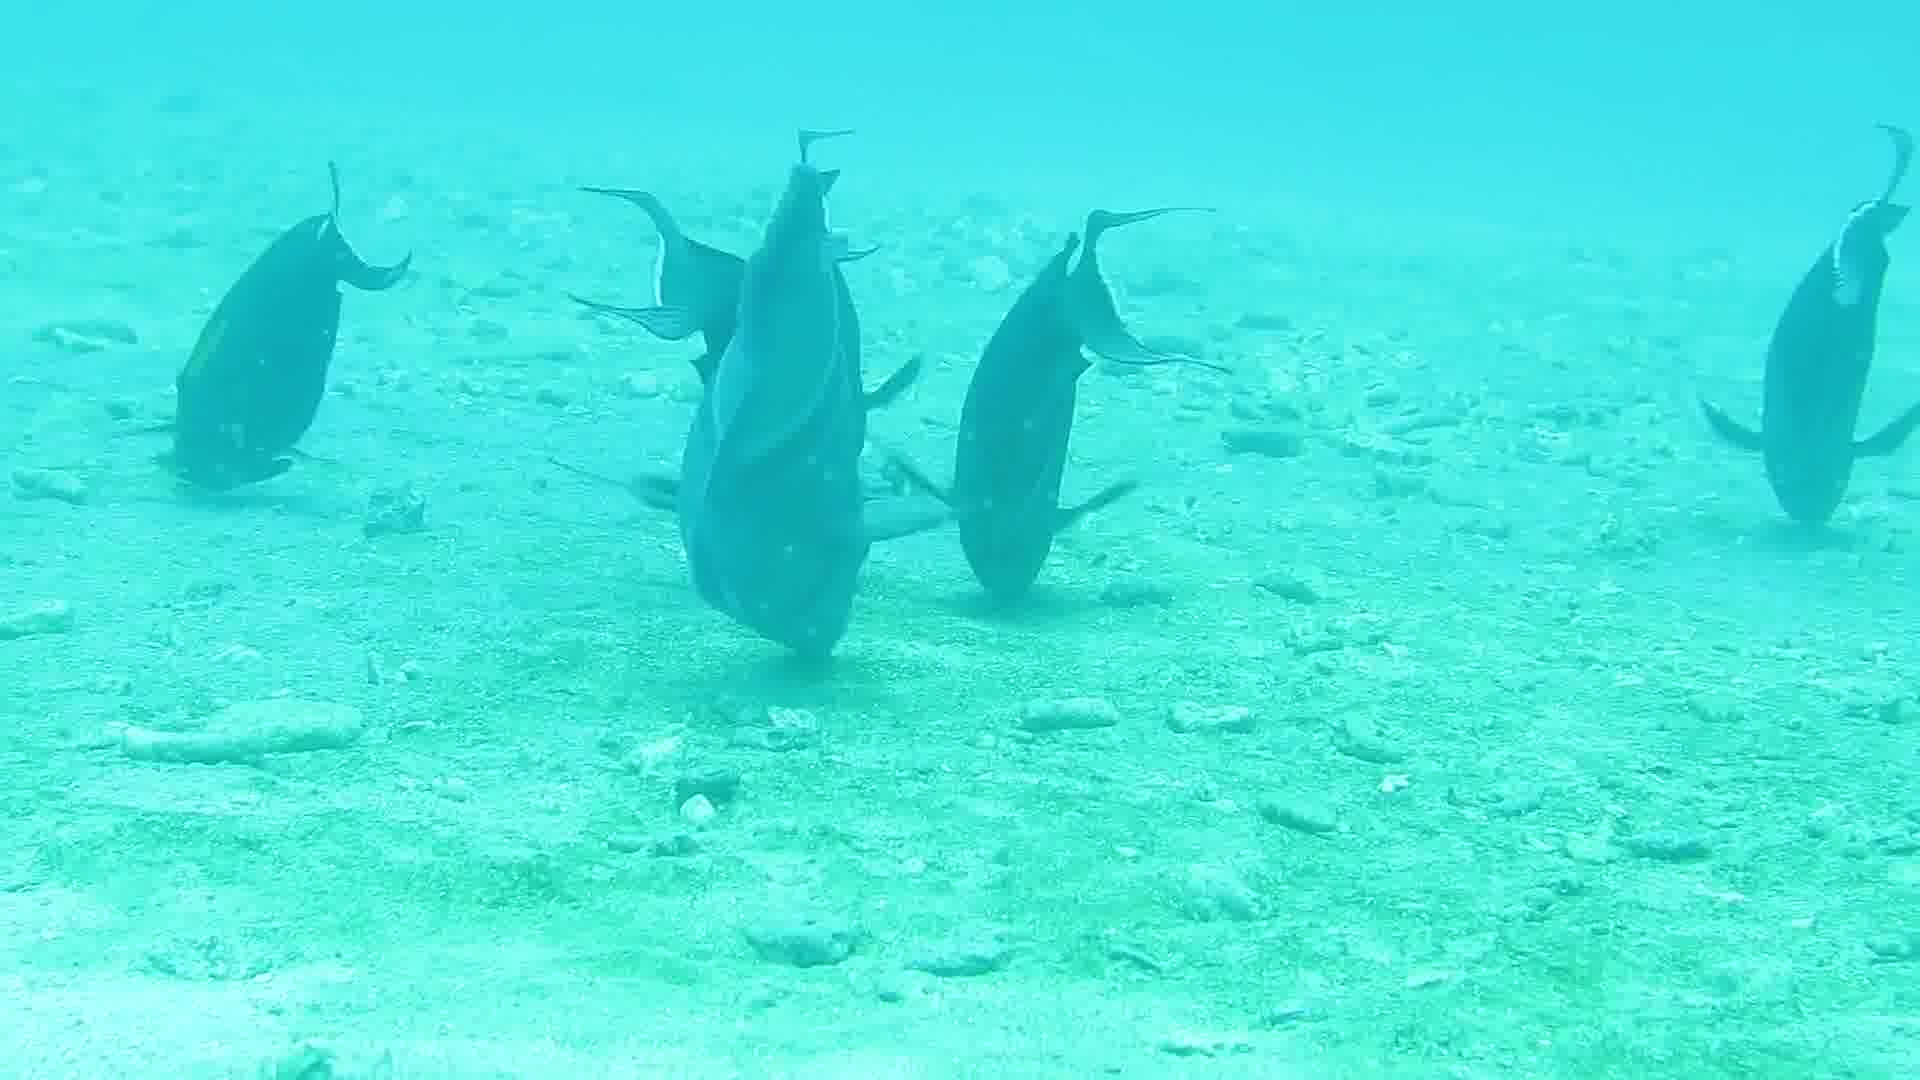Acanthurus olivaceus: (922, 204, 1242, 632), (105, 148, 426, 574), (599, 236, 919, 662), (1600, 167, 1920, 593)
